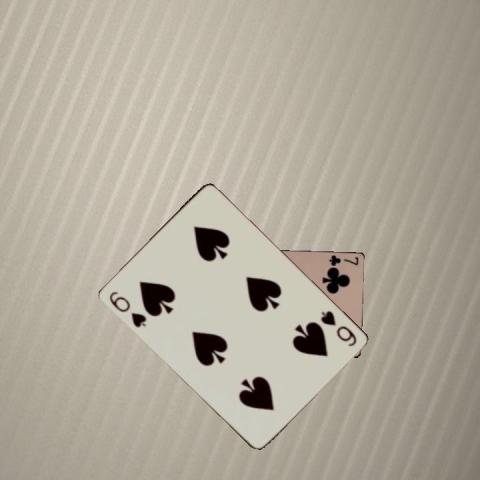6s: (105, 288, 148, 329), (317, 307, 358, 348)
7c: (326, 253, 359, 267)
